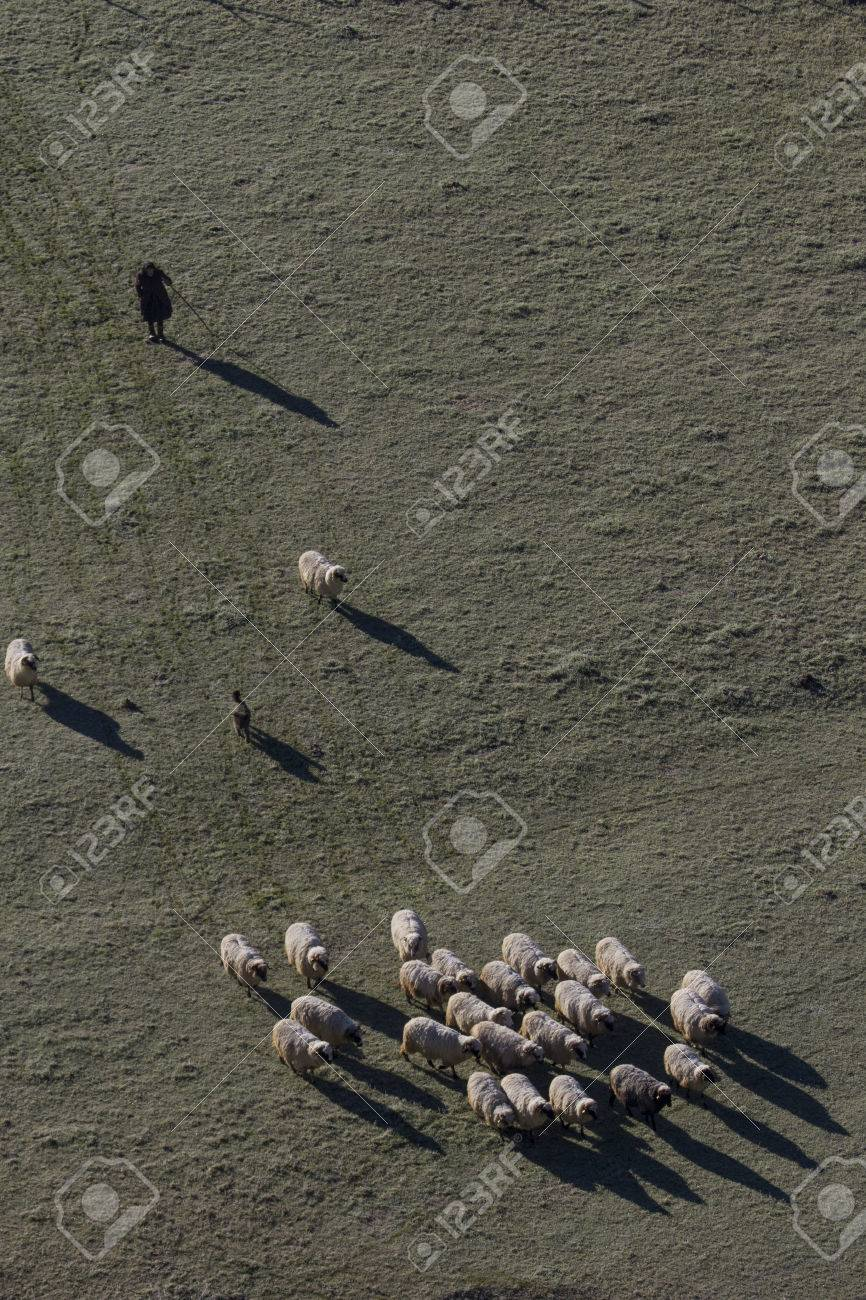sheep: (395, 1010, 479, 1078), (289, 990, 365, 1058), (610, 1058, 673, 1136), (269, 1016, 335, 1084), (594, 931, 657, 1000), (667, 983, 729, 1053), (460, 1073, 523, 1140), (478, 953, 540, 1015), (502, 926, 559, 993), (218, 931, 274, 999), (665, 1040, 720, 1106), (555, 941, 612, 1004), (545, 1073, 609, 1128), (280, 919, 330, 988), (297, 548, 352, 610), (505, 1070, 555, 1133), (427, 945, 482, 998), (399, 959, 454, 1011), (389, 906, 428, 970), (5, 636, 42, 699)
